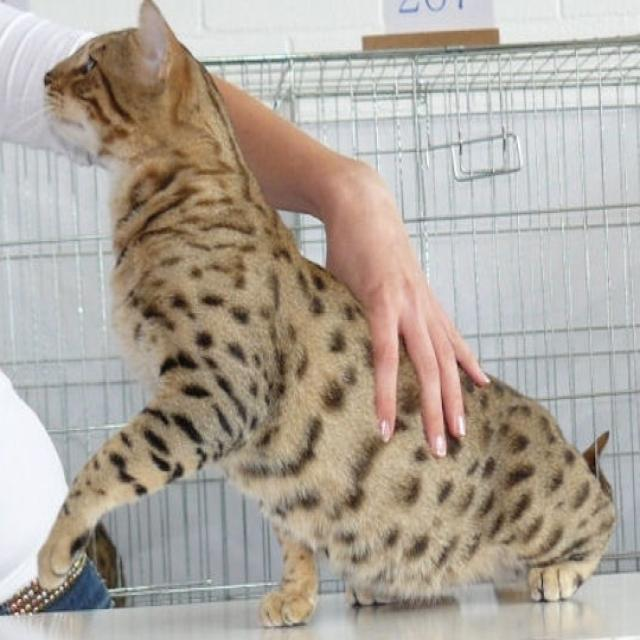Bengal: (24, 0, 621, 629)
